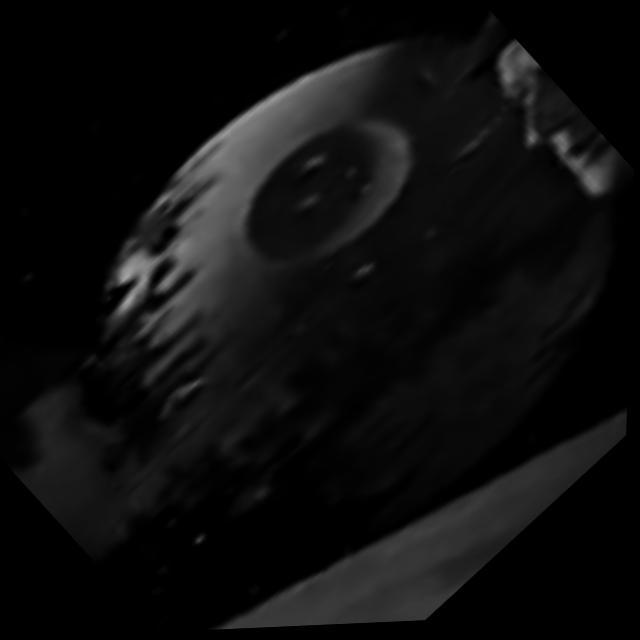death-stars: (84, 38, 618, 546)
